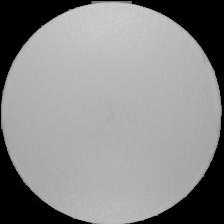68382-099: (0, 0, 224, 224)
